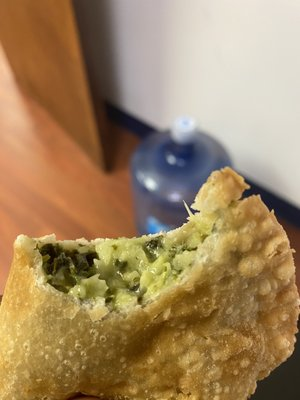soup: (0, 168, 300, 400)
